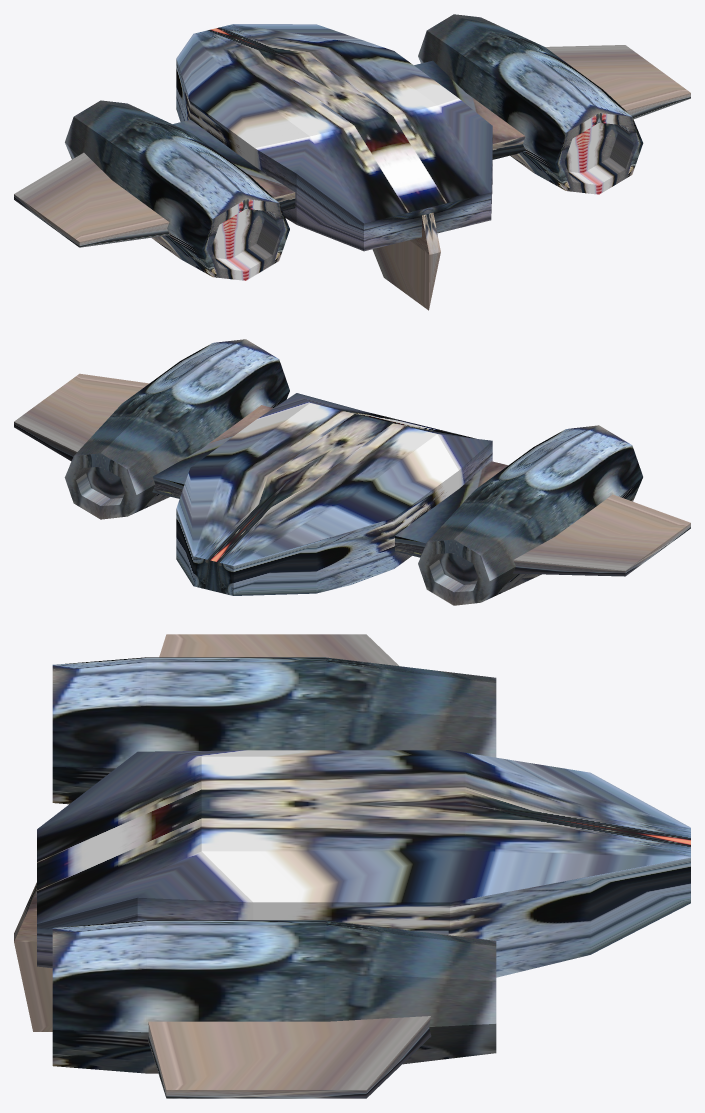
File: cuship.glb
3 views of the same model, one above another, from view 1: azimuth 30°, elevation 25°; view 2: azimuth 150°, elevation 25°; view 3: azimuth 270°, elevation 25° (orthographic). The views are drawn at different scales.
Visible parts, largest first — view 1: M2_Ship_1; view 2: M2_Ship_1; view 3: M2_Ship_1.
Part boxes in pixels (x1,y1,x2,y2): M2_Ship_1: (14,14,690,310); M2_Ship_1: (14,339,690,605); M2_Ship_1: (14,634,690,1098).
Bounding box in the file's own units: 1.95 × 0.4754 × 1.23.
1 material, 1 textured.
